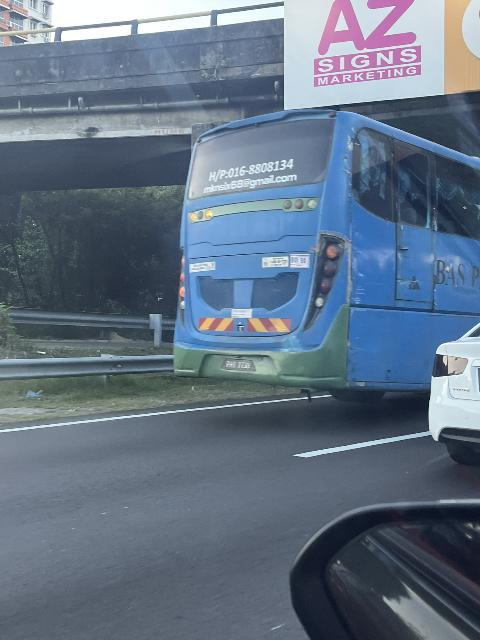License_Plate: (218, 358, 262, 377)
car: (423, 322, 480, 459)
